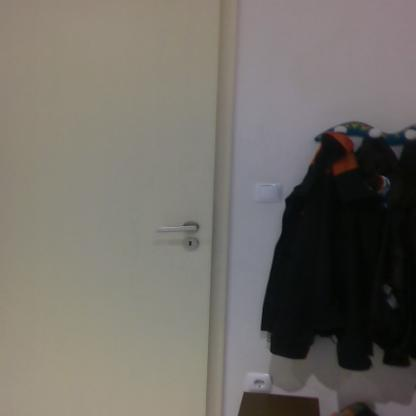door: (0, 0, 211, 415)
lever: (149, 224, 203, 233)
